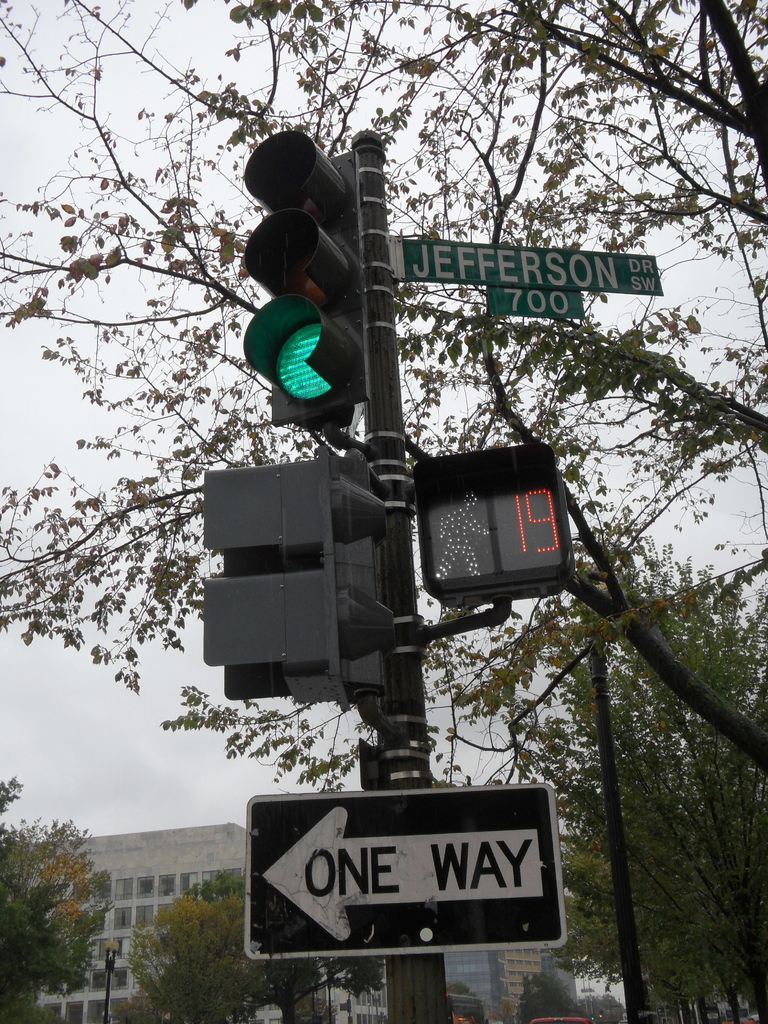green_light: (244, 142, 356, 415)
